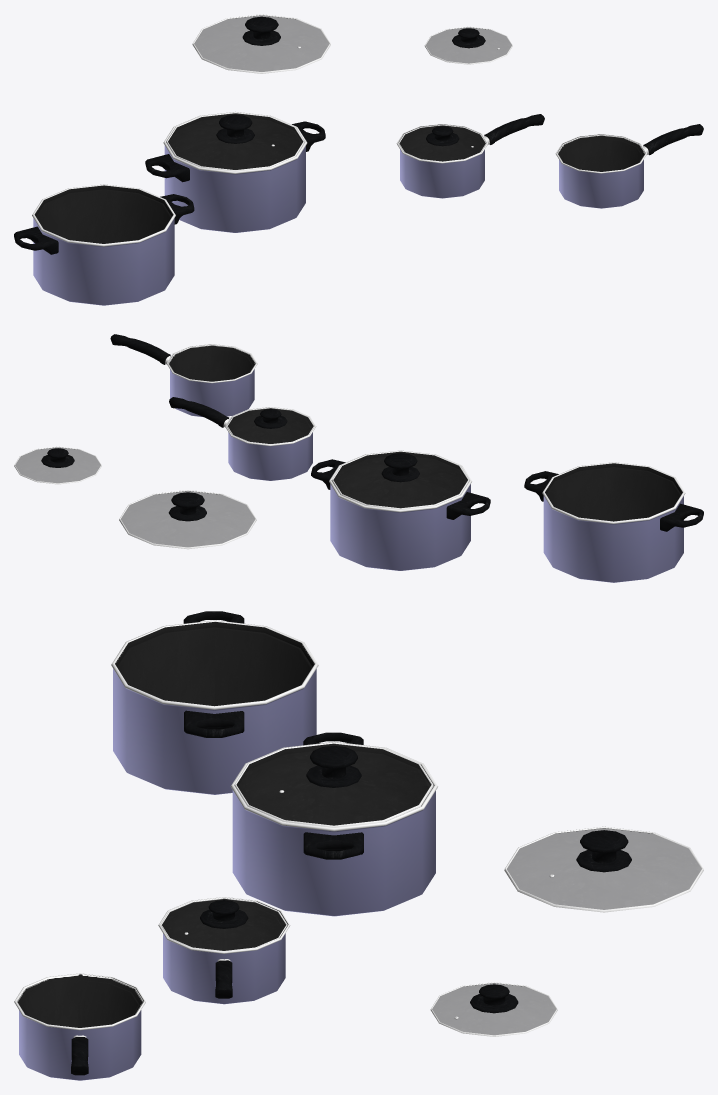
File: Pots.fbx
The picture shows the model from 3 angles, top to bottom: view 1: azimuth 30°, elevation 25°; view 2: azimuth 150°, elevation 25°; view 3: azimuth 270°, elevation 25°; orthographic projection. The views are drawn at different scales.
Parts seen in each view (by area): view 1: Pot large without lid, Pot Large with lid, Pot Small without lid, Pot small with lid, Lid large, Lid small; view 2: Pot large without lid, Pot Large with lid, Pot small with lid, Lid large, Pot Small without lid, Lid small; view 3: Pot Large with lid, Pot large without lid, Lid large, Pot small with lid, Pot Small without lid, Lid small.
Part boxes in pixels (bbox=[...]): Pot large without lid: bbox=[14, 184, 194, 305]; Pot Large with lid: bbox=[145, 111, 325, 232]; Pot Small without lid: bbox=[555, 124, 703, 208]; Pot small with lid: bbox=[396, 114, 544, 198]; Lid large: bbox=[192, 14, 330, 73]; Lid small: bbox=[424, 26, 512, 64]; Pot large without lid: bbox=[524, 462, 703, 582]; Pot Large with lid: bbox=[311, 450, 490, 570]; Pot small with lid: bbox=[169, 397, 316, 480]; Lid large: bbox=[119, 490, 256, 549]; Pot Small without lid: bbox=[110, 334, 257, 417]; Lid small: bbox=[14, 446, 101, 484]; Pot Large with lid: bbox=[230, 732, 437, 916]; Pot large without lid: bbox=[111, 611, 318, 794]; Lid large: bbox=[504, 826, 703, 912]; Pot small with lid: bbox=[158, 897, 290, 1004]; Pot Small without lid: bbox=[14, 973, 145, 1080]; Lid small: bbox=[430, 982, 557, 1036].
Size of the model in its own units: 854 by 108 by 557.
